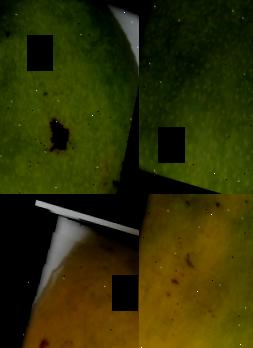PartiallyRipe: (0, 202, 139, 348), (139, 194, 253, 348)
Unripe: (0, 0, 139, 194), (139, 0, 253, 194)
